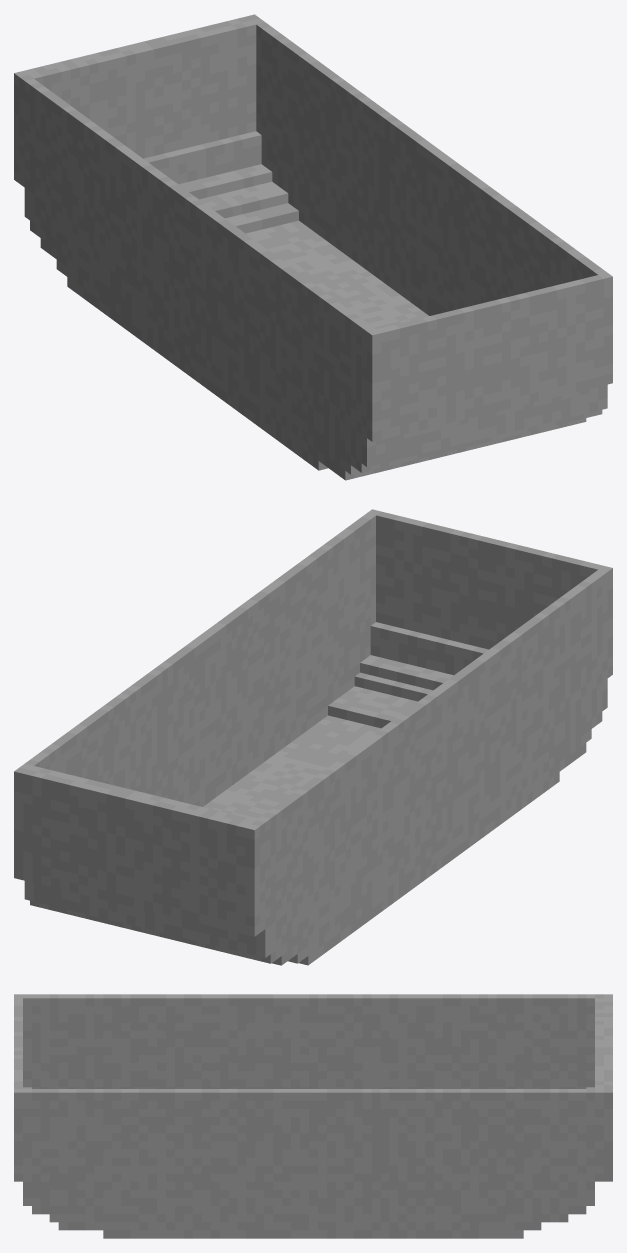
Rendered from lvl1-24.obj.
3 renders of one model, top to bottom at view 1: azimuth 30°, elevation 25°; view 2: azimuth 150°, elevation 25°; view 3: azimuth 270°, elevation 25°, orthographic. The views are drawn at different scales.
Size of the model in its own units: 2.6 by 1.8 by 6.7.
Materials: 1 (1 with a texture image).
